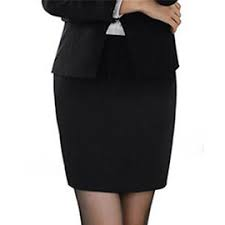F_W_suit jacket: (46, 32, 185, 200)
